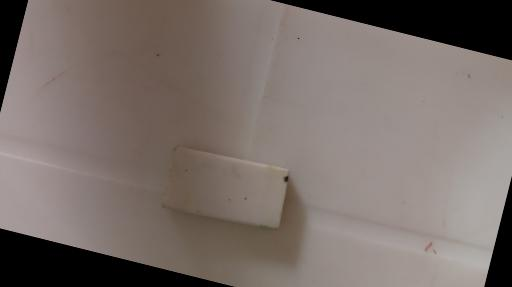Eraser: (162, 139, 297, 237)
